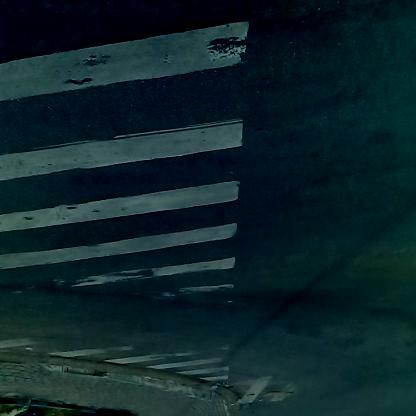crosswalk: (2, 2, 256, 413)
